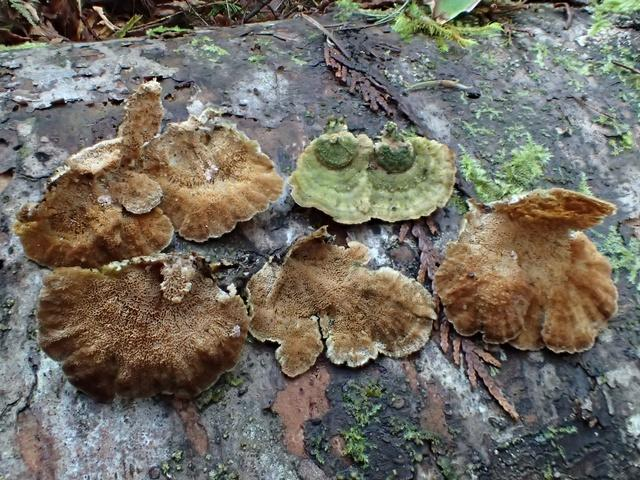poisonous_mushroom: (24, 72, 423, 374), (35, 249, 252, 403), (432, 186, 619, 354), (287, 118, 456, 225)
